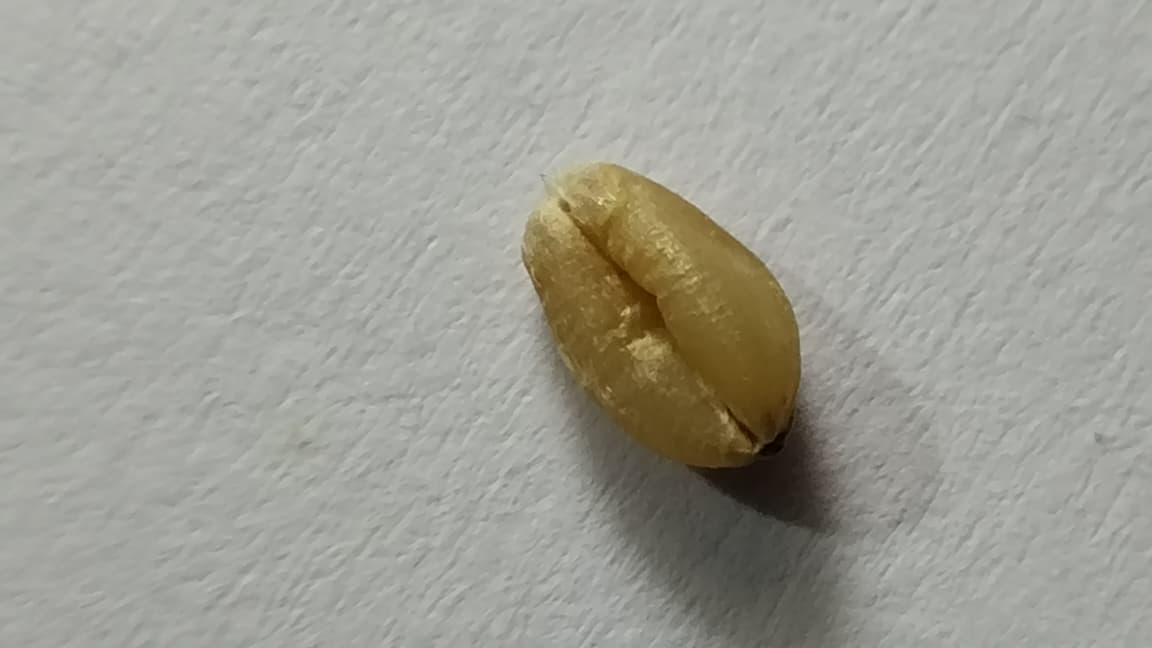healthy: (522, 161, 800, 467)
